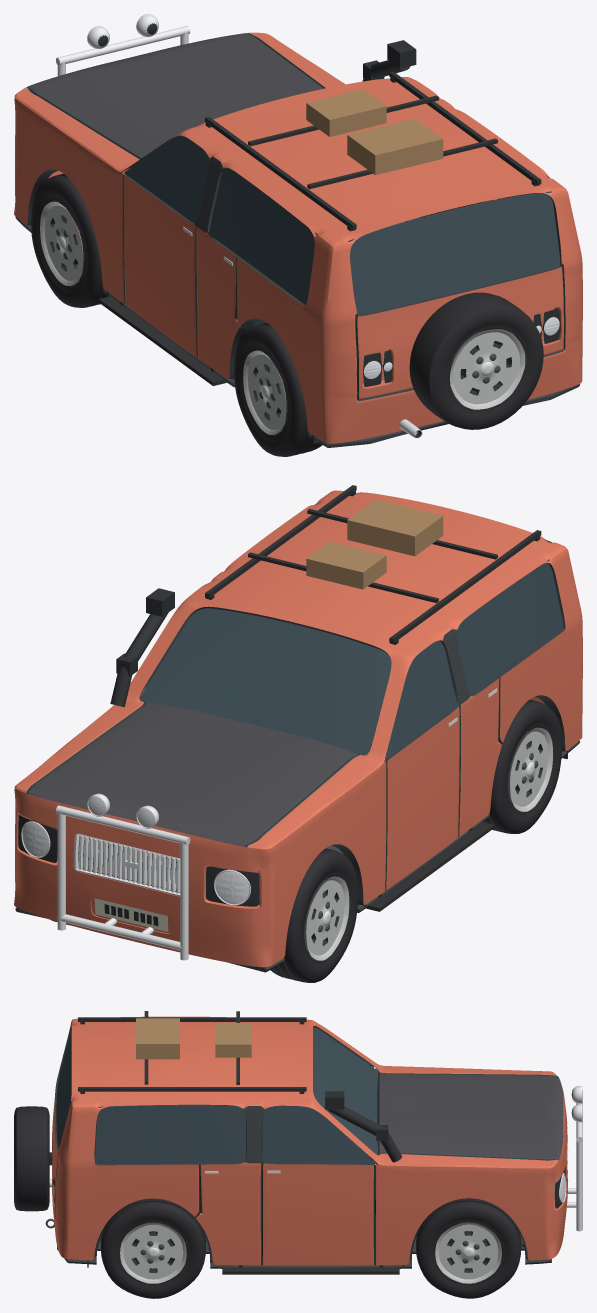
Rendered from forge_closed_4x4.fbx.
The picture shows the model from 3 angles, top to bottom: view 1: azimuth 30°, elevation 25°; view 2: azimuth 150°, elevation 25°; view 3: azimuth 270°, elevation 25°; orthographic projection. The views are drawn at different scales.
Parts seen in each view (by area): view 1: Body, Wheel_RL_Mesh, Wheel_FL_Mesh; view 2: Body, Wheel_FL_Mesh, Wheel_RL_Mesh; view 3: Body, Wheel_FR_Mesh, Wheel_RR_Mesh.
Part boxes in pixels (x1,y1,x2,y2): Body: (14, 14, 582, 447); Wheel_RL_Mesh: (234, 322, 322, 456); Wheel_FL_Mesh: (31, 173, 108, 307); Body: (14, 485, 582, 972); Wheel_FL_Mesh: (270, 848, 358, 982); Wheel_RL_Mesh: (484, 699, 561, 833); Body: (14, 1011, 582, 1274); Wheel_FR_Mesh: (416, 1198, 521, 1298); Wheel_RR_Mesh: (101, 1198, 205, 1298).
Bounding box in the file's own units: 173 × 167 × 392.
